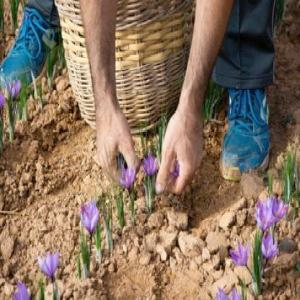Saffron: (36, 250, 62, 280), (255, 196, 277, 230), (116, 160, 138, 192), (83, 202, 100, 239), (260, 234, 281, 260), (232, 241, 251, 266), (142, 156, 162, 174)
